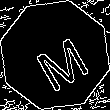M_NW: (22, 22, 88, 88)
